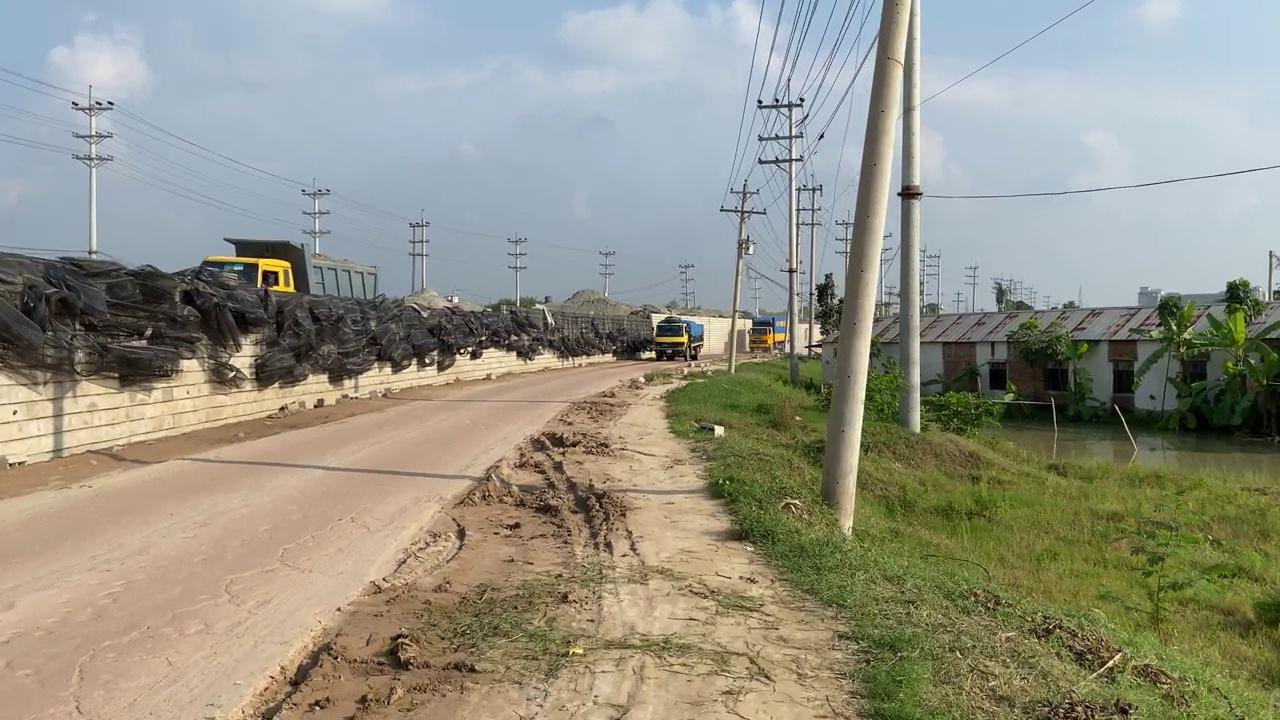Garbage: (0, 250, 648, 388)
Obstacle: (221, 236, 312, 294)
Pole: (819, 0, 914, 536), (896, 1, 922, 433)
Sidewalk: (976, 419, 1278, 486)
Tree: (200, 236, 378, 300), (650, 313, 703, 361), (747, 315, 786, 353)
Upstairs: (0, 335, 625, 468)
